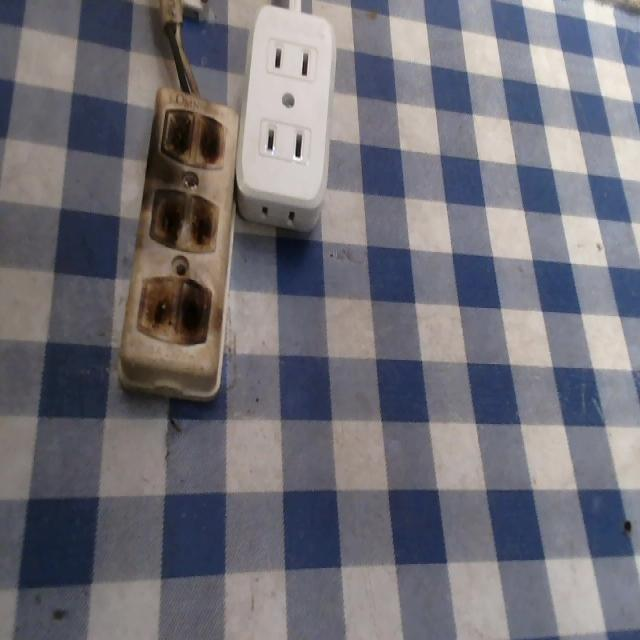-: (137, 276, 217, 367), (158, 103, 228, 180), (146, 188, 219, 259)
